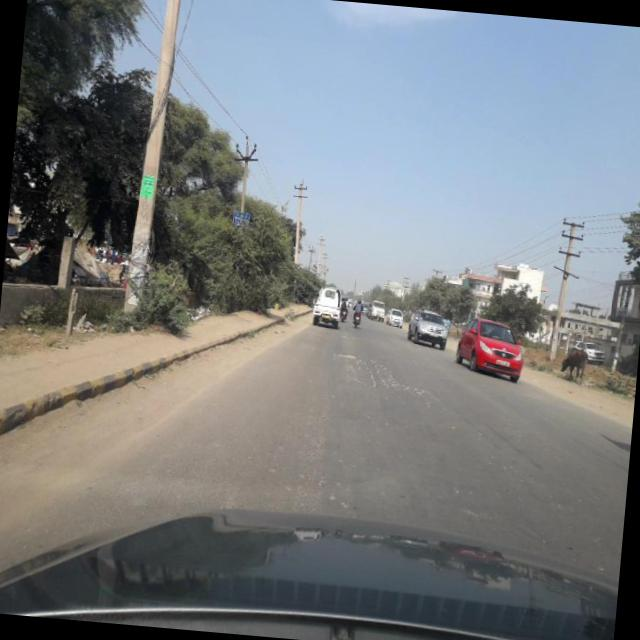crack: (352, 351, 422, 392)
pothole: (330, 347, 363, 363)
